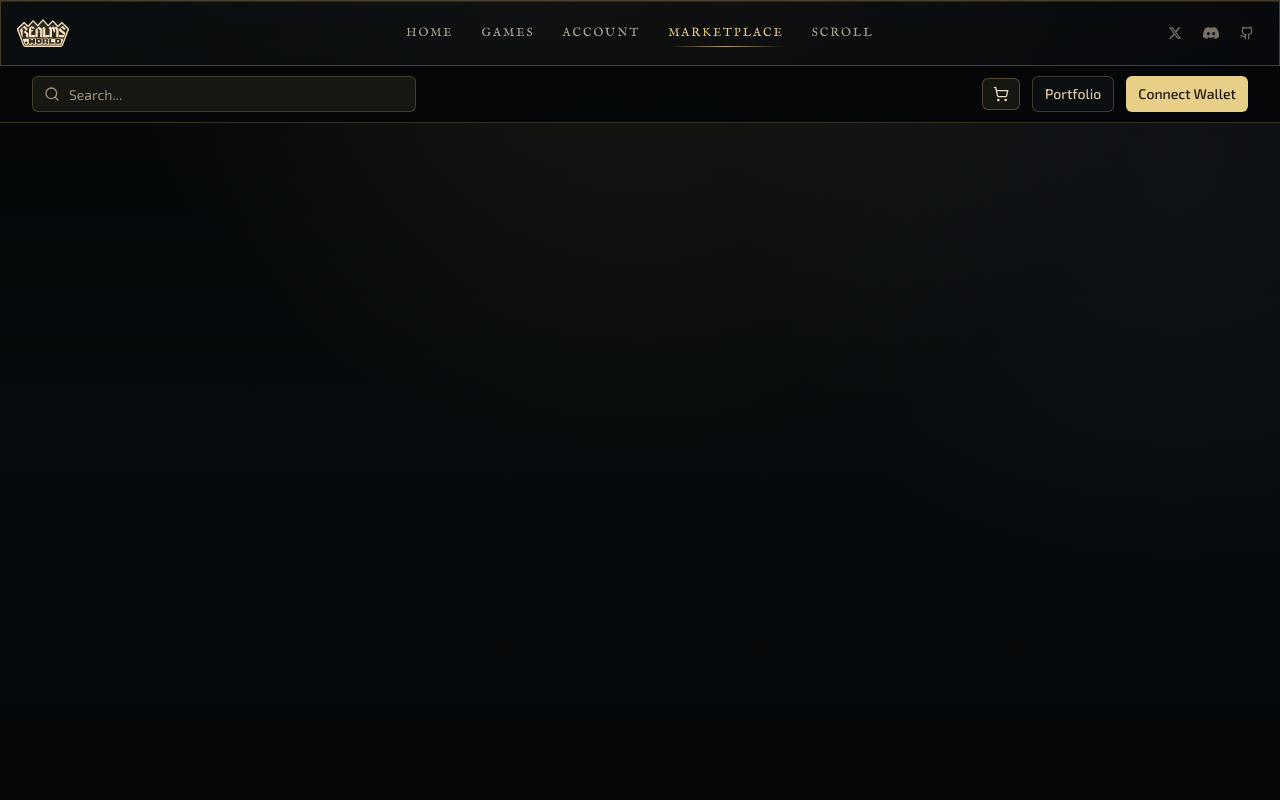
Header › login_opens_wallet_modal_with_all_connectors
This screenshot has width=1280, height=800.
Step 1. Click the button "Connect Wallet" → point(1187, 94), box top-left (1126, 76), bottom-right (1248, 112)
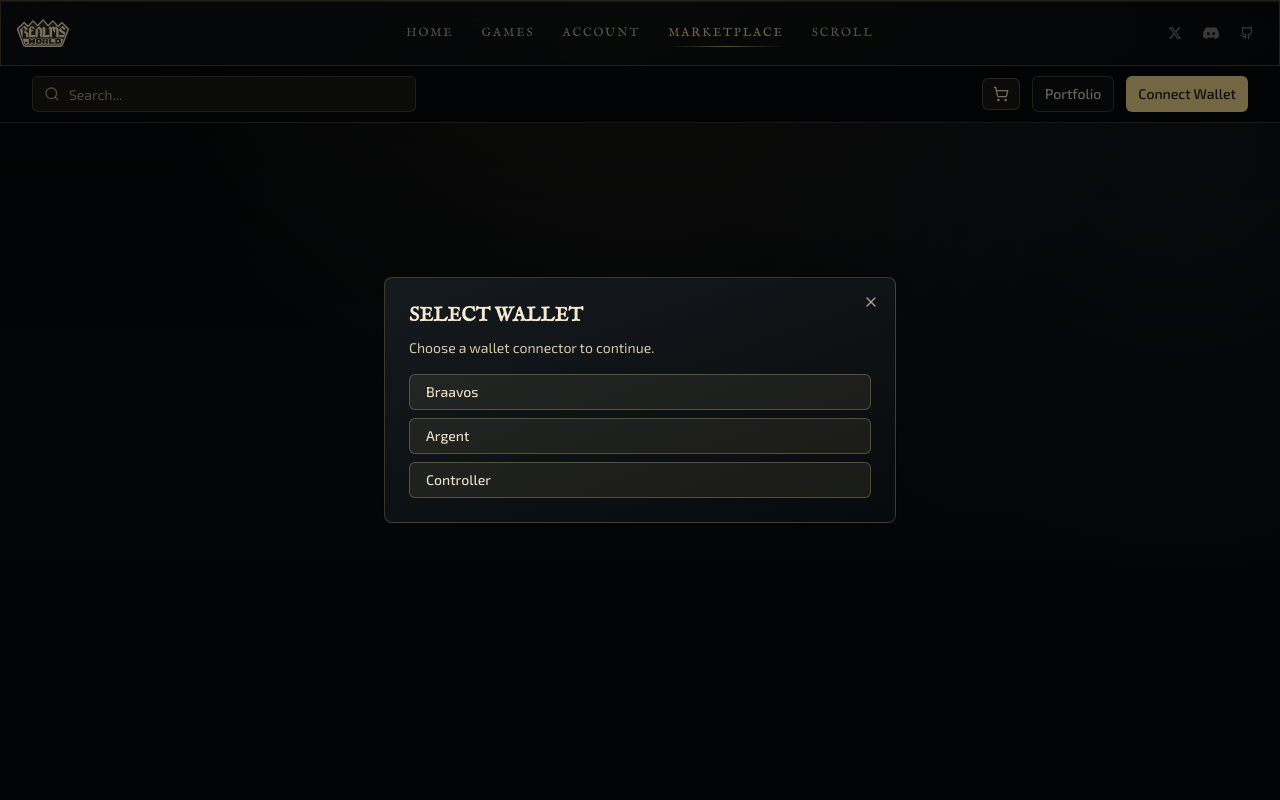
Expected: the heading "SELECT WALLET" is shown, top-left (409, 303), bottom-right (583, 328)
Expected: the button "Braavos" is shown, top-left (409, 374), bottom-right (871, 410)
Expected: the button "Argent" is shown, top-left (409, 418), bottom-right (871, 454)
